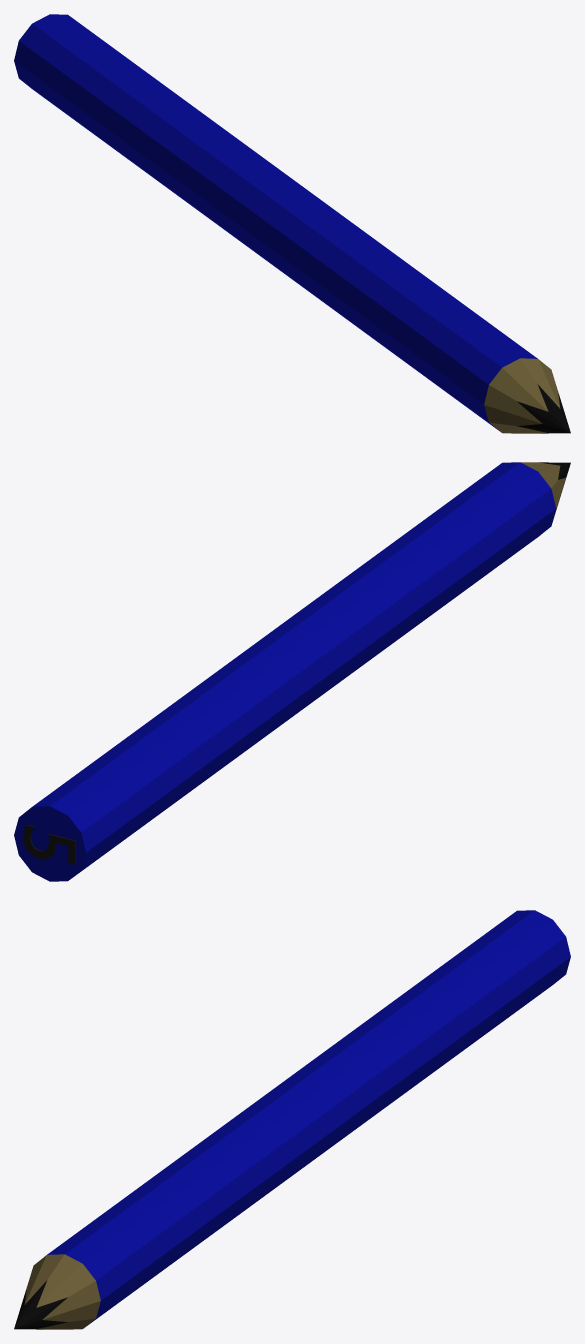
The model's file is blue.obj.
3 views of the same model, one above another, from view 1: azimuth 30°, elevation 25°; view 2: azimuth 150°, elevation 25°; view 3: azimuth 330°, elevation 25° (orthographic).
Parts seen in each view (by area): view 1: bluepencil; view 2: bluepencil; view 3: bluepencil.
Boxes of the visible parts, box(x1,y1,x2,y2) form: bluepencil: box(14, 14, 570, 433); bluepencil: box(14, 462, 570, 881); bluepencil: box(14, 910, 570, 1329).
Size of the model in its own units: 0.02 by 0.02 by 0.2504.
